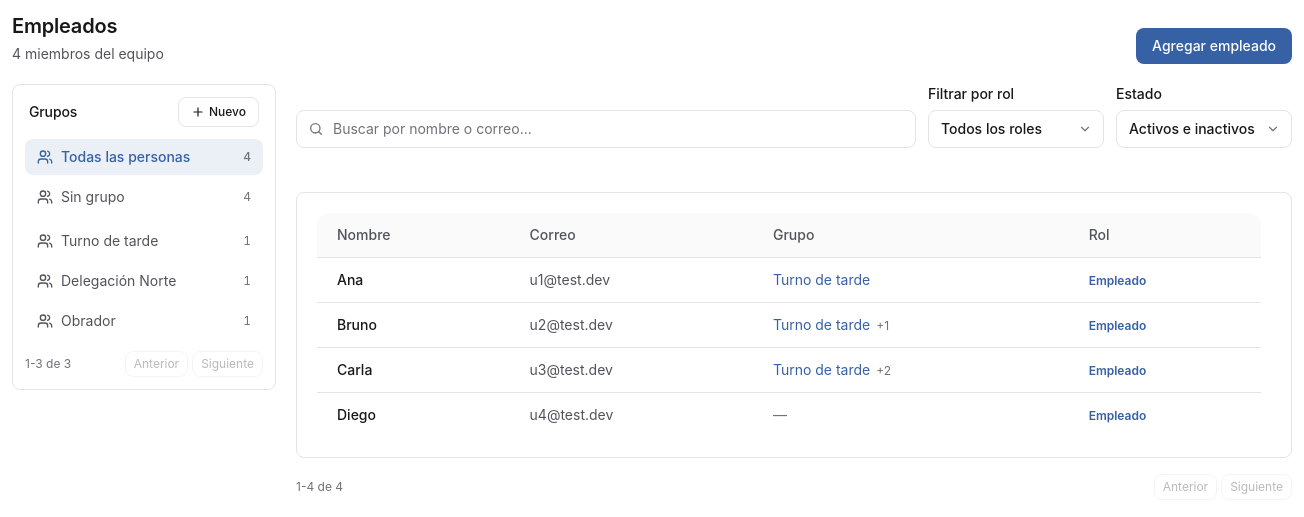
Test: clicking a group › filters the table by that group
This screenshot has width=1304, height=517.
Expected: the text "Diego" is shown, [337,406,376,423]
Click the button "Turno de tarde" in the row of "Ana" at (822, 280), box [773,270,870,290]
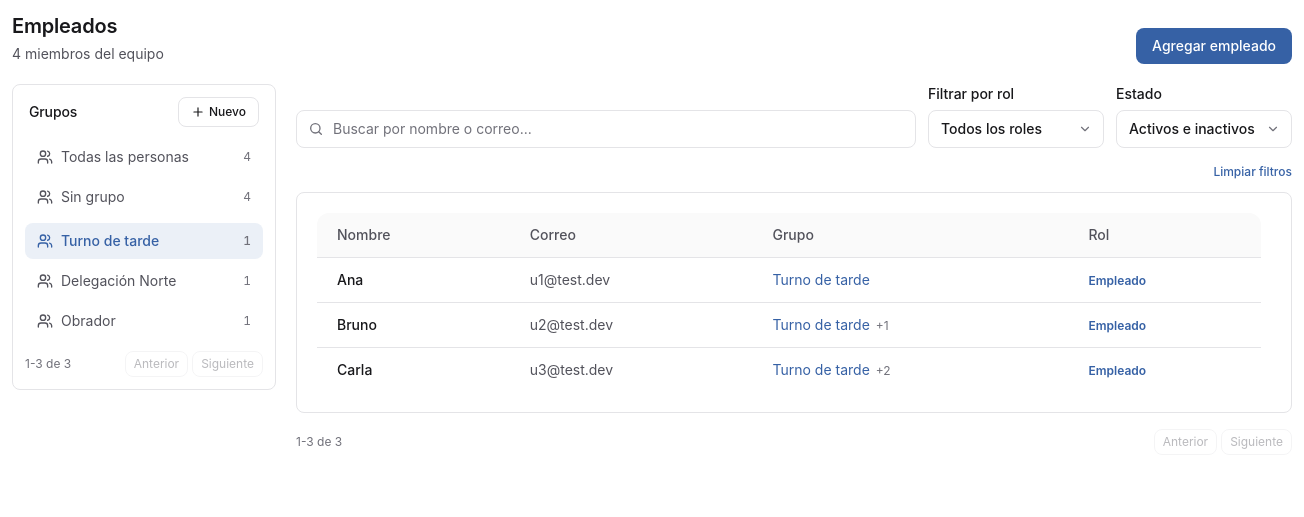
Result: the text "Diego" is gone
